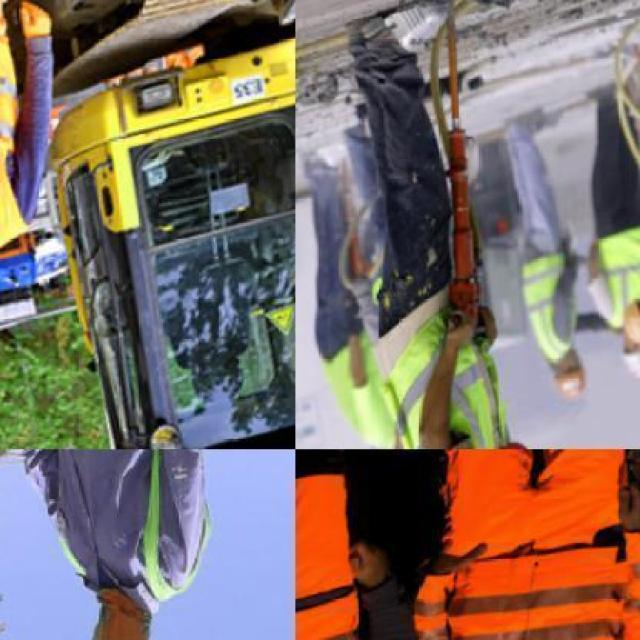helmet: (551, 371, 592, 404)
